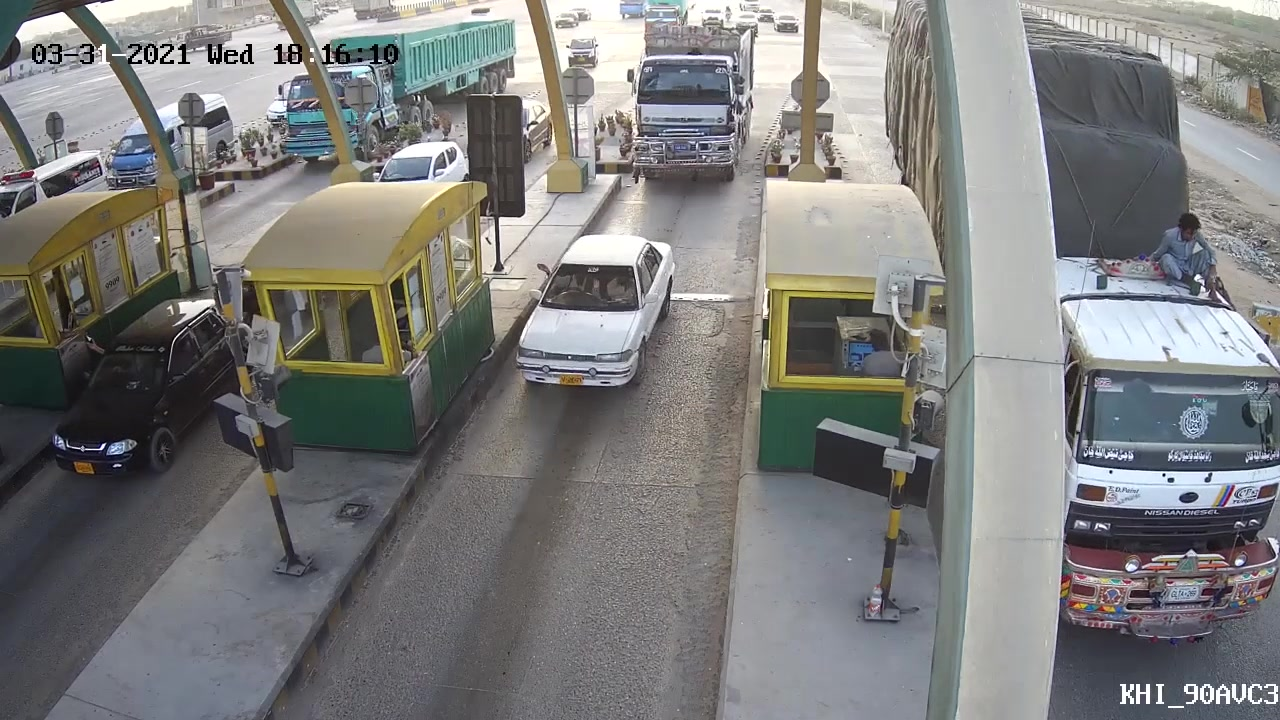F1: (507, 228, 687, 393)
F5: (615, 51, 762, 183)
